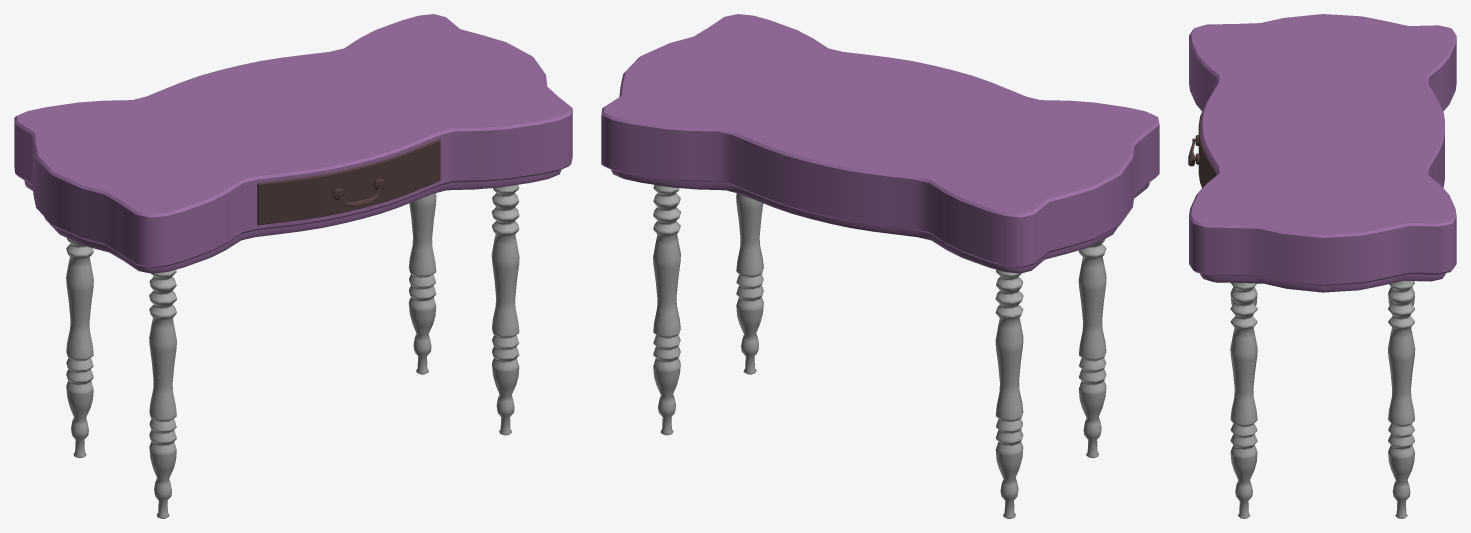
Rendered from SideTable.fbx.
3 renders of one model, left to right at view 1: azimuth 30°, elevation 25°; view 2: azimuth 150°, elevation 25°; view 3: azimuth 270°, elevation 25°, orthographic. The views are drawn at different scales.
Parts seen in each view (by area): view 1: Table, Leg, Draw; view 2: Table, Leg; view 3: Table, Leg, Draw.
Part boxes in pixels (<box>): Table: <box>14,14,572,273</box>; Leg: <box>66,185,519,518</box>; Draw: <box>257,139,440,225</box>; Table: <box>601,14,1159,273</box>; Leg: <box>653,184,1106,518</box>; Table: <box>1189,14,1456,292</box>; Leg: <box>1230,280,1415,518</box>; Draw: <box>1188,113,1216,187</box>.
Size of the model in its own units: 116 by 76.24 by 59.12.
